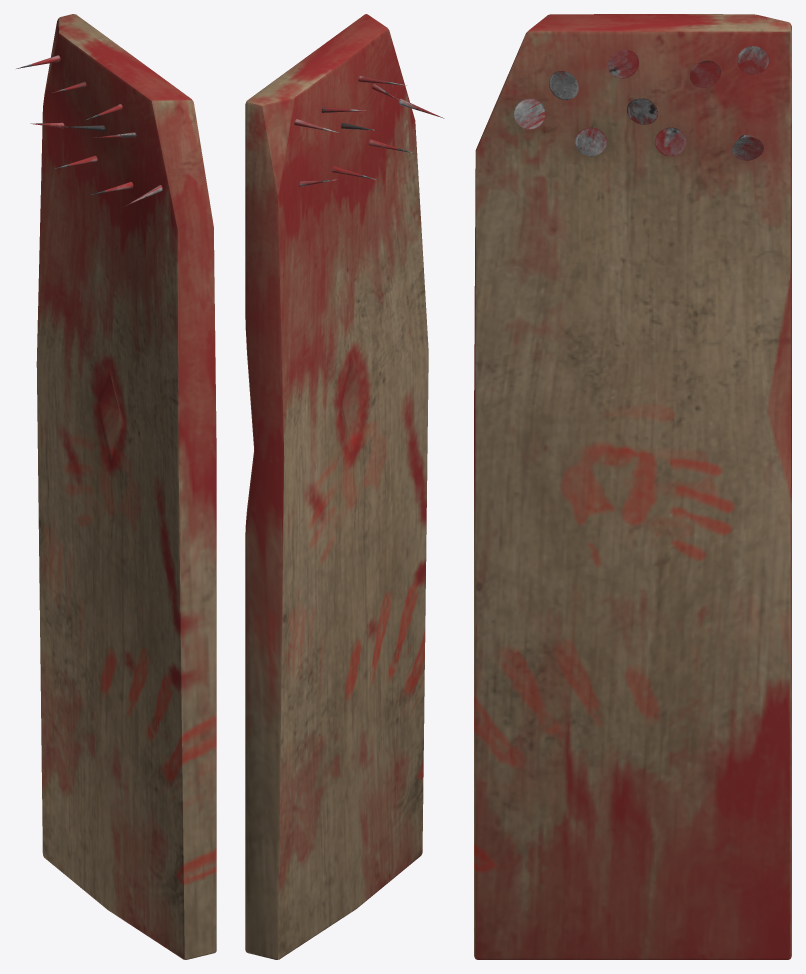
File: board_with_nails_in_blood.glb
3 renders of one model, left to right at view 1: azimuth 30°, elevation 25°; view 2: azimuth 150°, elevation 25°; view 3: azimuth 270°, elevation 25°, orthographic. The views are drawn at different scales.
Visible parts, largest first — view 1: board_low, nails_low; view 2: board_low, nails_low; view 3: board_low, nails_low.
Boxes of the visible parts, x1=… form: board_low: x1=36, y1=14, x2=216, y2=959; nails_low: x1=16, y1=55, x2=162, y2=207; board_low: x1=245, y1=14, x2=428, y2=959; nails_low: x1=294, y1=75, x2=444, y2=186; board_low: x1=474, y1=14, x2=791, y2=959; nails_low: x1=514, y1=46, x2=768, y2=160.
Bounding box in the file's own units: 0.7175 × 6.46 × 2.
Materials: 1 (1 with a texture image).
